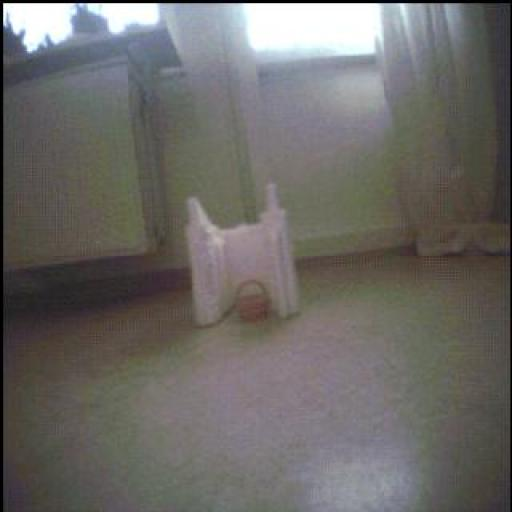Basket: (237, 281, 272, 323)
